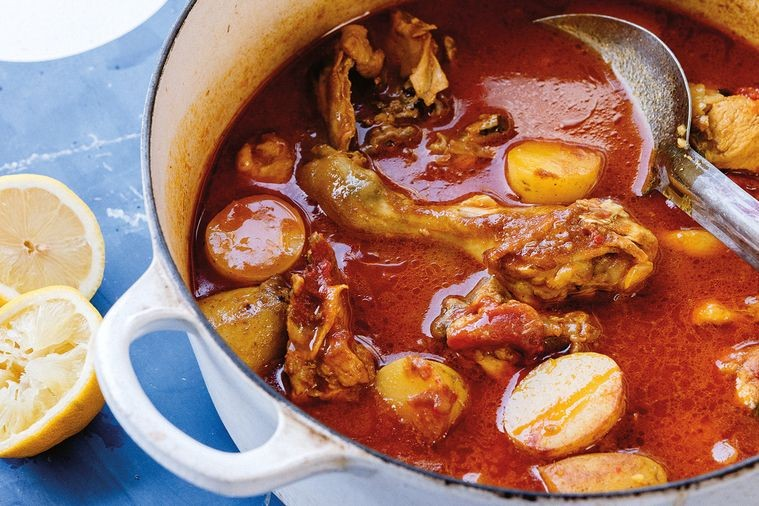chicken_curry: (225, 25, 743, 472)
